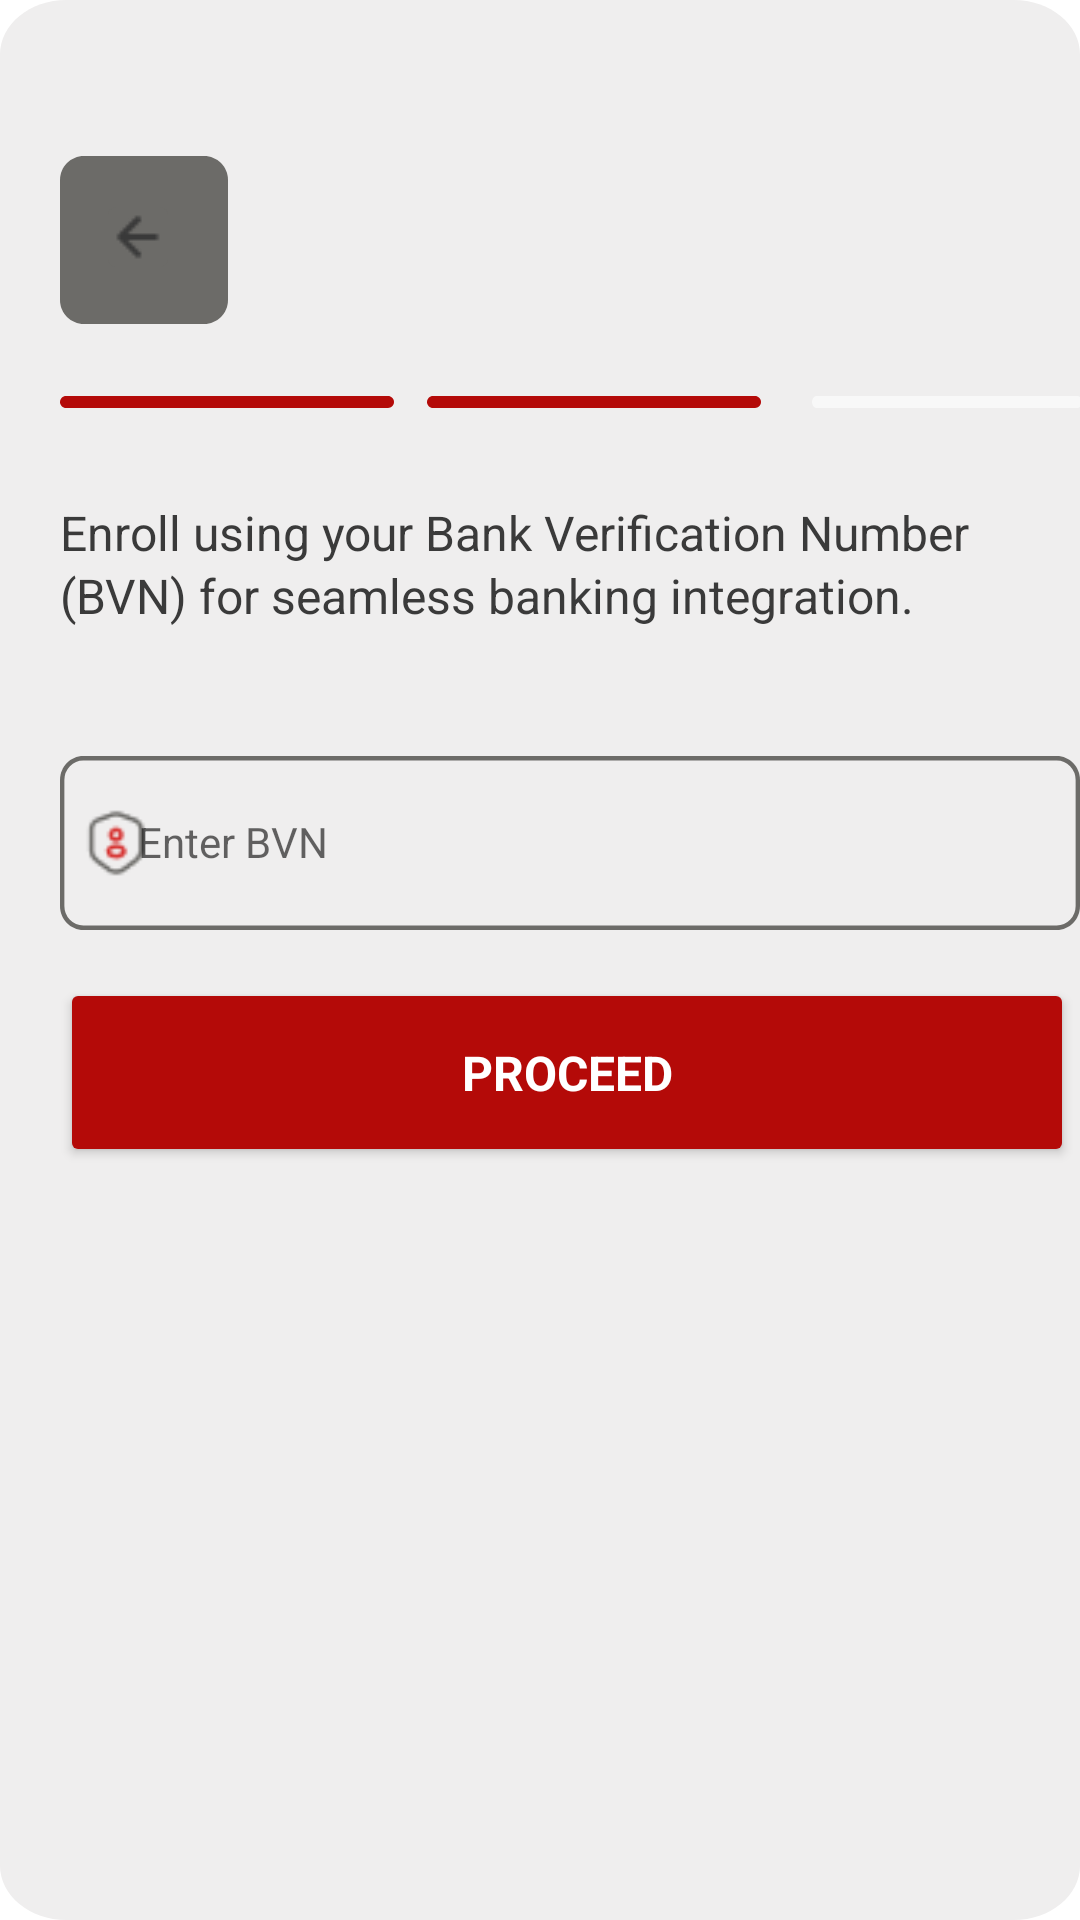

Where to tap for icons on this 1080px×1920px app screen, as point (x, y):
Back icon: point (138, 237)
security user: point (120, 843)
